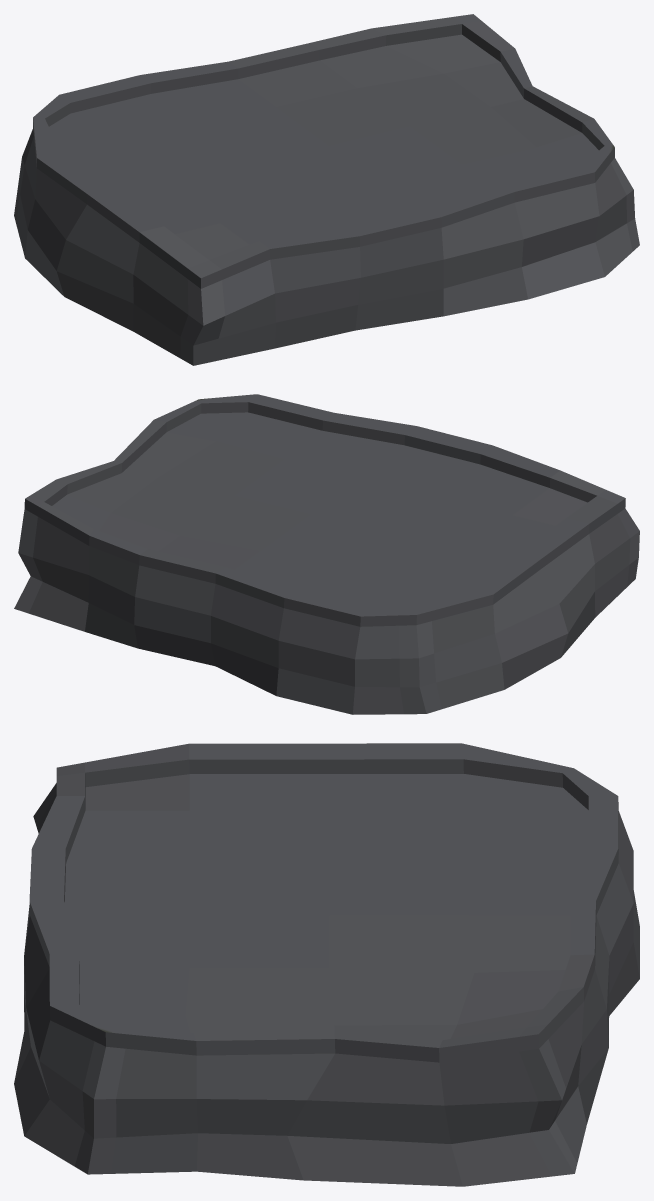
Rendered from Slab2.glb.
The picture shows the model from 3 angles, top to bottom: view 1: azimuth 30°, elevation 25°; view 2: azimuth 150°, elevation 25°; view 3: azimuth 270°, elevation 25°; orthographic projection. The views are drawn at different scales.
Visible parts, largest first — view 1: Slab2; view 2: Slab2; view 3: Slab2.
Boxes of the visible parts, x1=… form: Slab2: x1=14, y1=14, x2=639, y2=365; Slab2: x1=14, y1=394, x2=639, y2=714; Slab2: x1=14, y1=743, x2=639, y2=1186.
Bounding box in the file's own units: 2.77 × 0.5865 × 2.24.
1 material, 1 textured.
